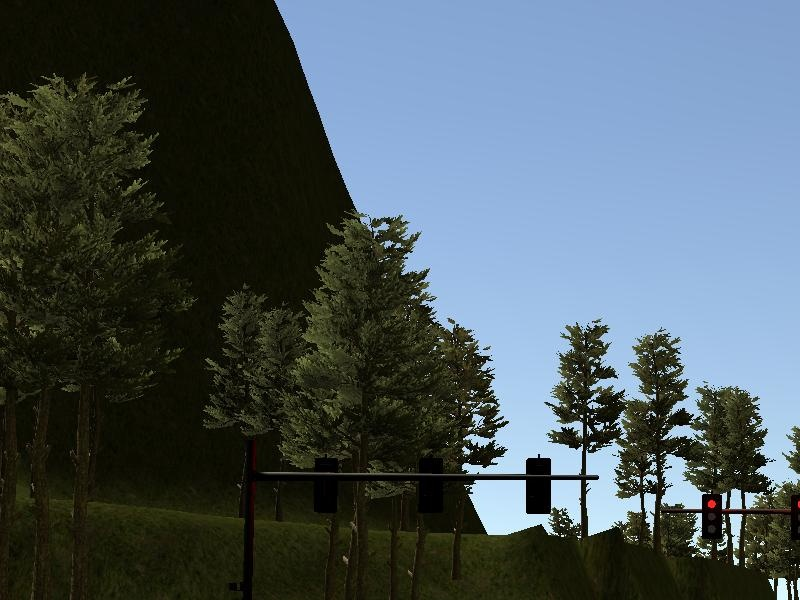Red: (701, 495, 722, 538), (790, 495, 800, 540)
